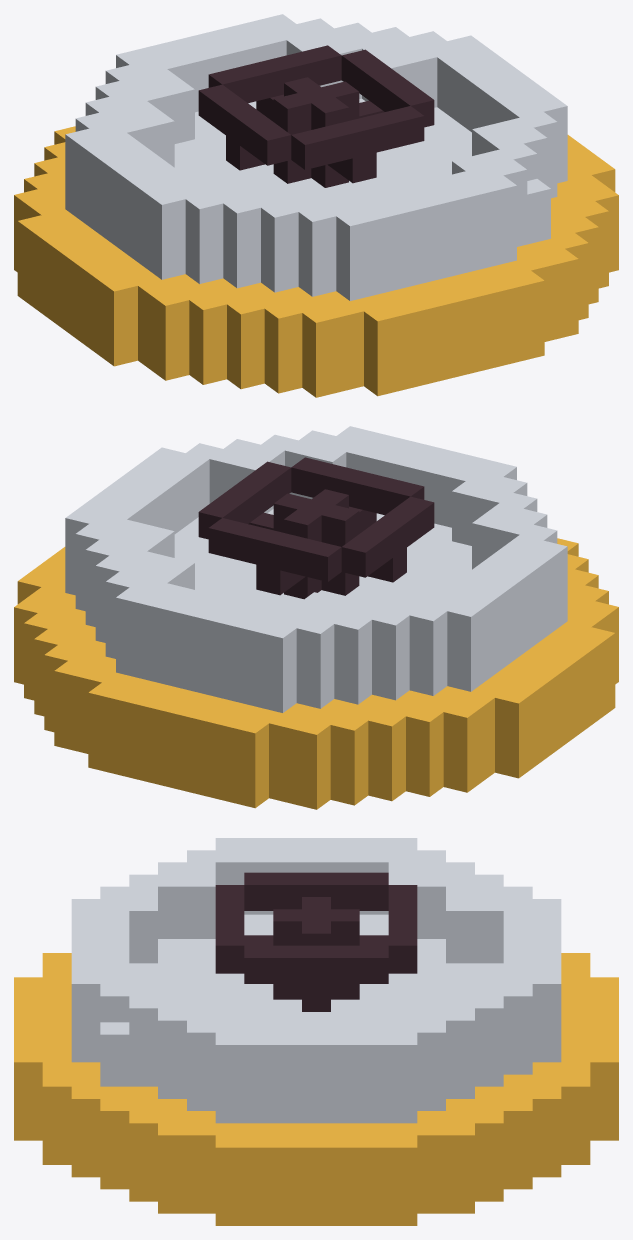
The model's file is Lake_IV_coupler.glb.
The picture shows the model from 3 angles, top to bottom: view 1: azimuth 30°, elevation 25°; view 2: azimuth 150°, elevation 25°; view 3: azimuth 270°, elevation 25°; orthographic projection. The views are drawn at different scales.
Visible parts, largest first — view 1: ObjObject.013; view 2: ObjObject.013; view 3: ObjObject.013.
Boxes of the visible parts, x1,y1,x2,y2 form: ObjObject.013: [14, 14, 618, 397]; ObjObject.013: [14, 426, 618, 809]; ObjObject.013: [14, 838, 618, 1225].
Bounding box in the file's own units: 2.1 × 0.7 × 2.1.
1 material, 1 textured.
